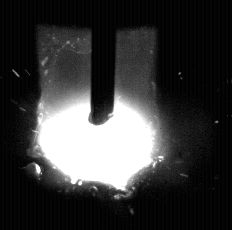arame: (91, 0, 115, 126)
poca: (35, 0, 155, 230)
